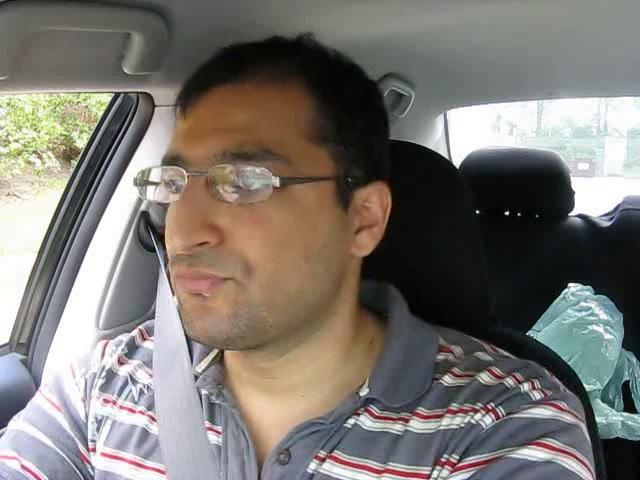no_yawn: (164, 259, 244, 300)
open_eyeL: (151, 164, 194, 199)
open_eyeR: (214, 164, 283, 210)
